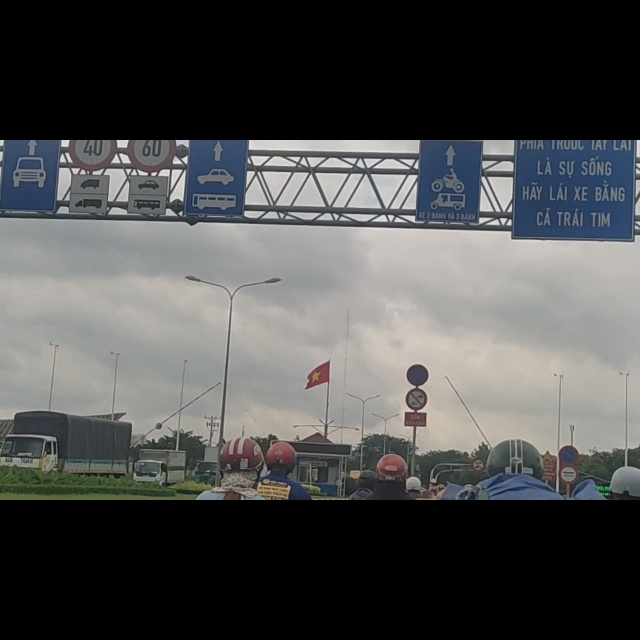bien_cam: (127, 1, 177, 57), (69, 1, 117, 53), (407, 399, 429, 436), (406, 441, 428, 478), (558, 542, 579, 577), (560, 577, 578, 612), (471, 565, 485, 588), (542, 550, 554, 574)
